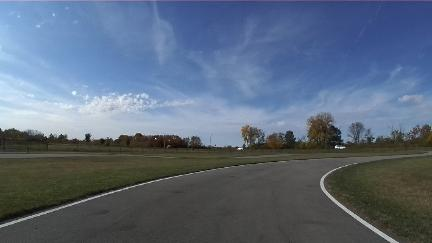Grass: (0, 153, 407, 220), (327, 157, 431, 242)
Lane: (0, 153, 430, 242)
